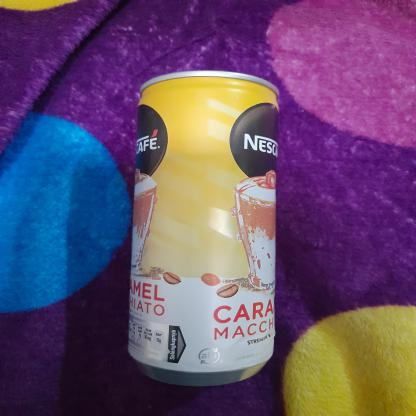can: (125, 66, 277, 376)
